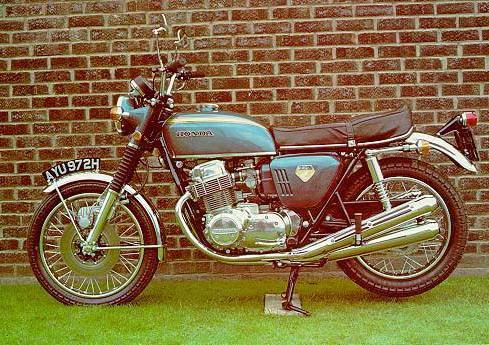motorcycle: (17, 20, 489, 324)
